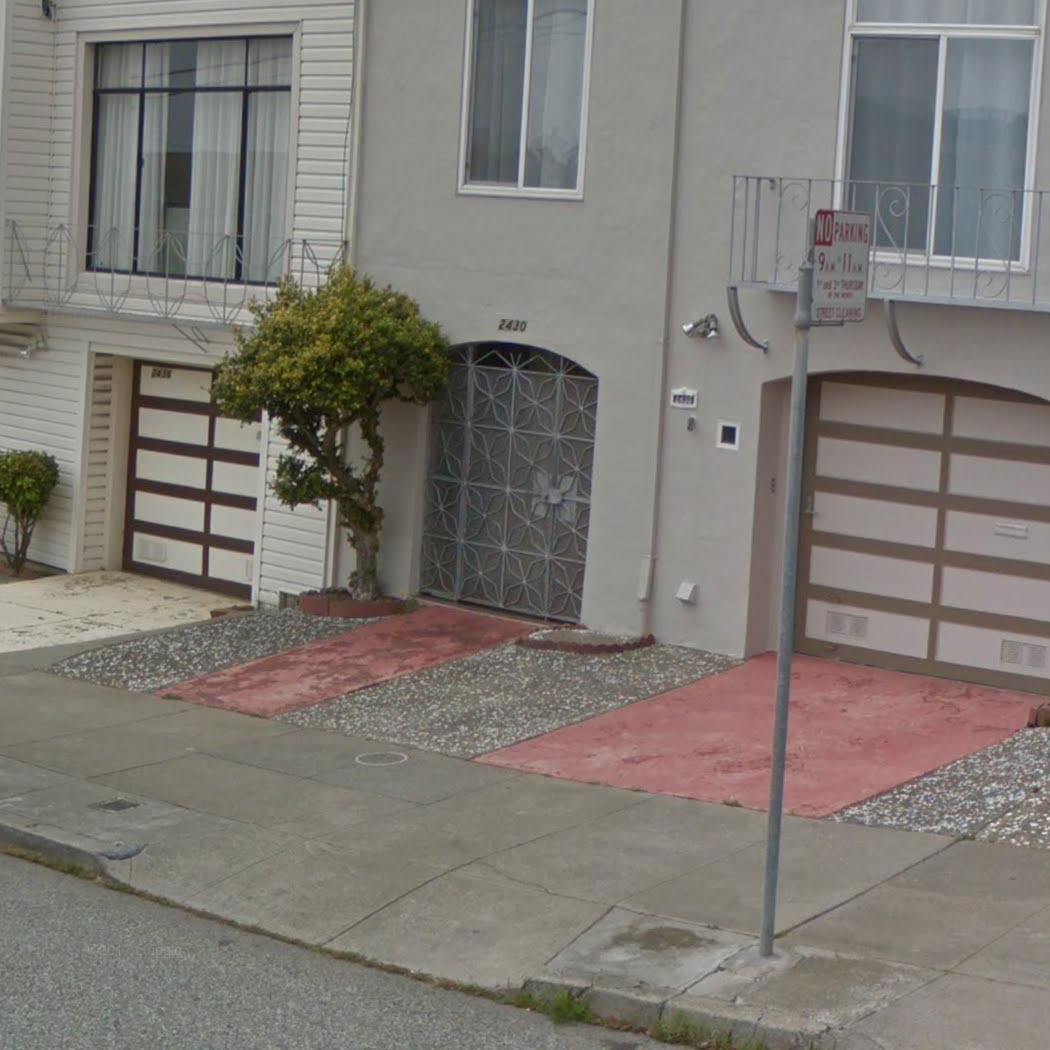No Parking: (807, 206, 874, 326)
